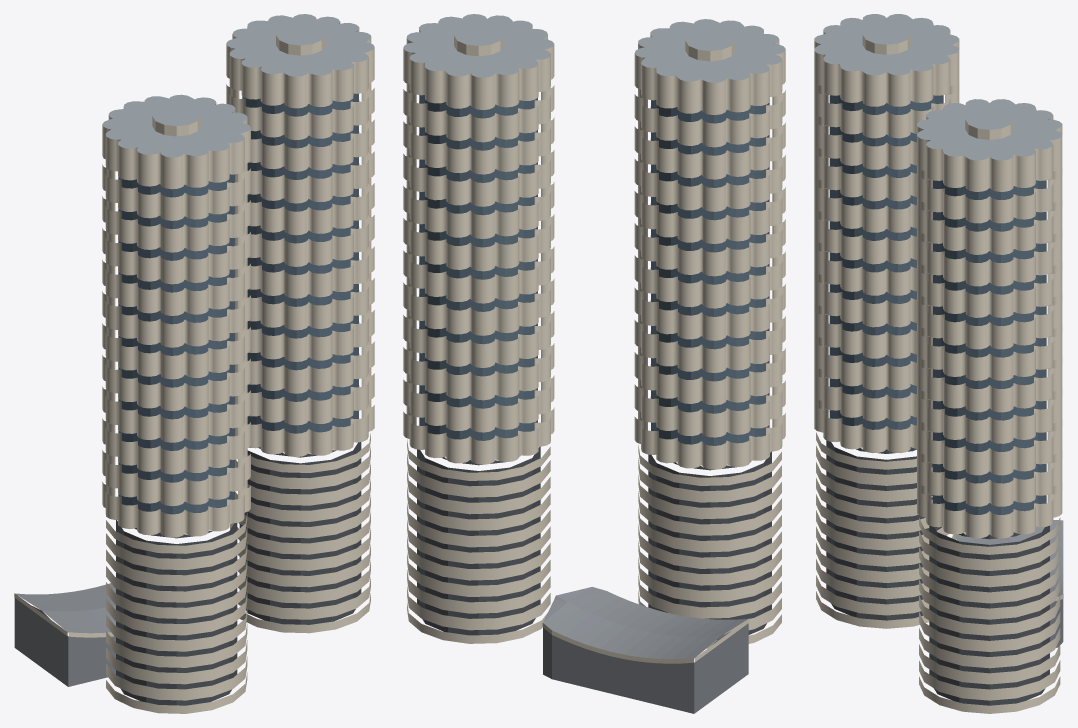
The model's file is chi-marina-city.glb.
3 views of the same model, side by side, from view 1: azimuth 30°, elevation 25°; view 2: azimuth 150°, elevation 25°; view 3: azimuth 270°, elevation 25° (orthographic). The views are drawn at different scales.
Visible parts, largest first — view 1: Marina City; view 2: Marina City; view 3: Marina City.
Part boxes in pixels (<box>): Marina City: <box>14,14,374,713</box>; Marina City: <box>403,14,785,713</box>; Marina City: <box>814,14,1063,713</box>.
Size of the model in its own units: 96.3 by 170 by 67.06.
